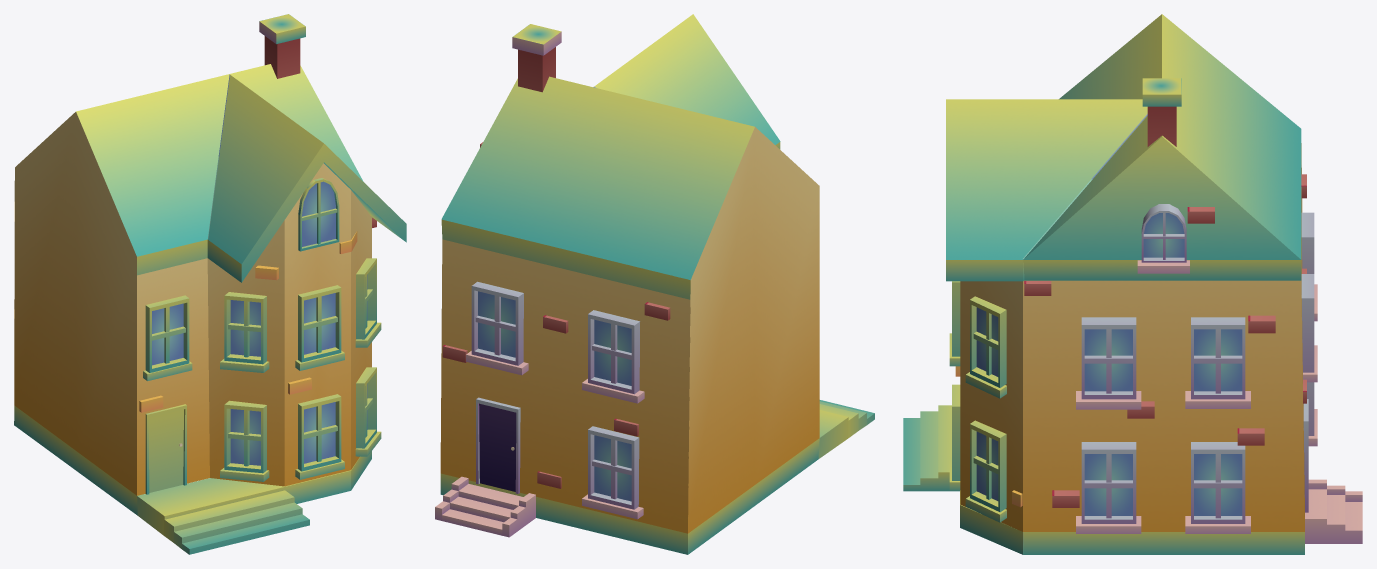
The model's file is SM_House_R_Short_BackDoor_02.fbx.
The picture shows the model from 3 angles, left to right: view 1: azimuth 30°, elevation 25°; view 2: azimuth 150°, elevation 25°; view 3: azimuth 270°, elevation 25°; orthographic projection. The views are drawn at different scales.
Parts seen in each view (by area): view 1: SM_House_R_Short_BackDoor_02; view 2: SM_House_R_Short_BackDoor_02; view 3: SM_House_R_Short_BackDoor_02.
Part boxes in pixels (bbox=[...]): SM_House_R_Short_BackDoor_02: bbox=[14, 14, 406, 554]; SM_House_R_Short_BackDoor_02: bbox=[435, 14, 874, 554]; SM_House_R_Short_BackDoor_02: bbox=[903, 14, 1362, 554].
Bounding box in the file's own units: 7.37 × 10.09 × 10.98.
